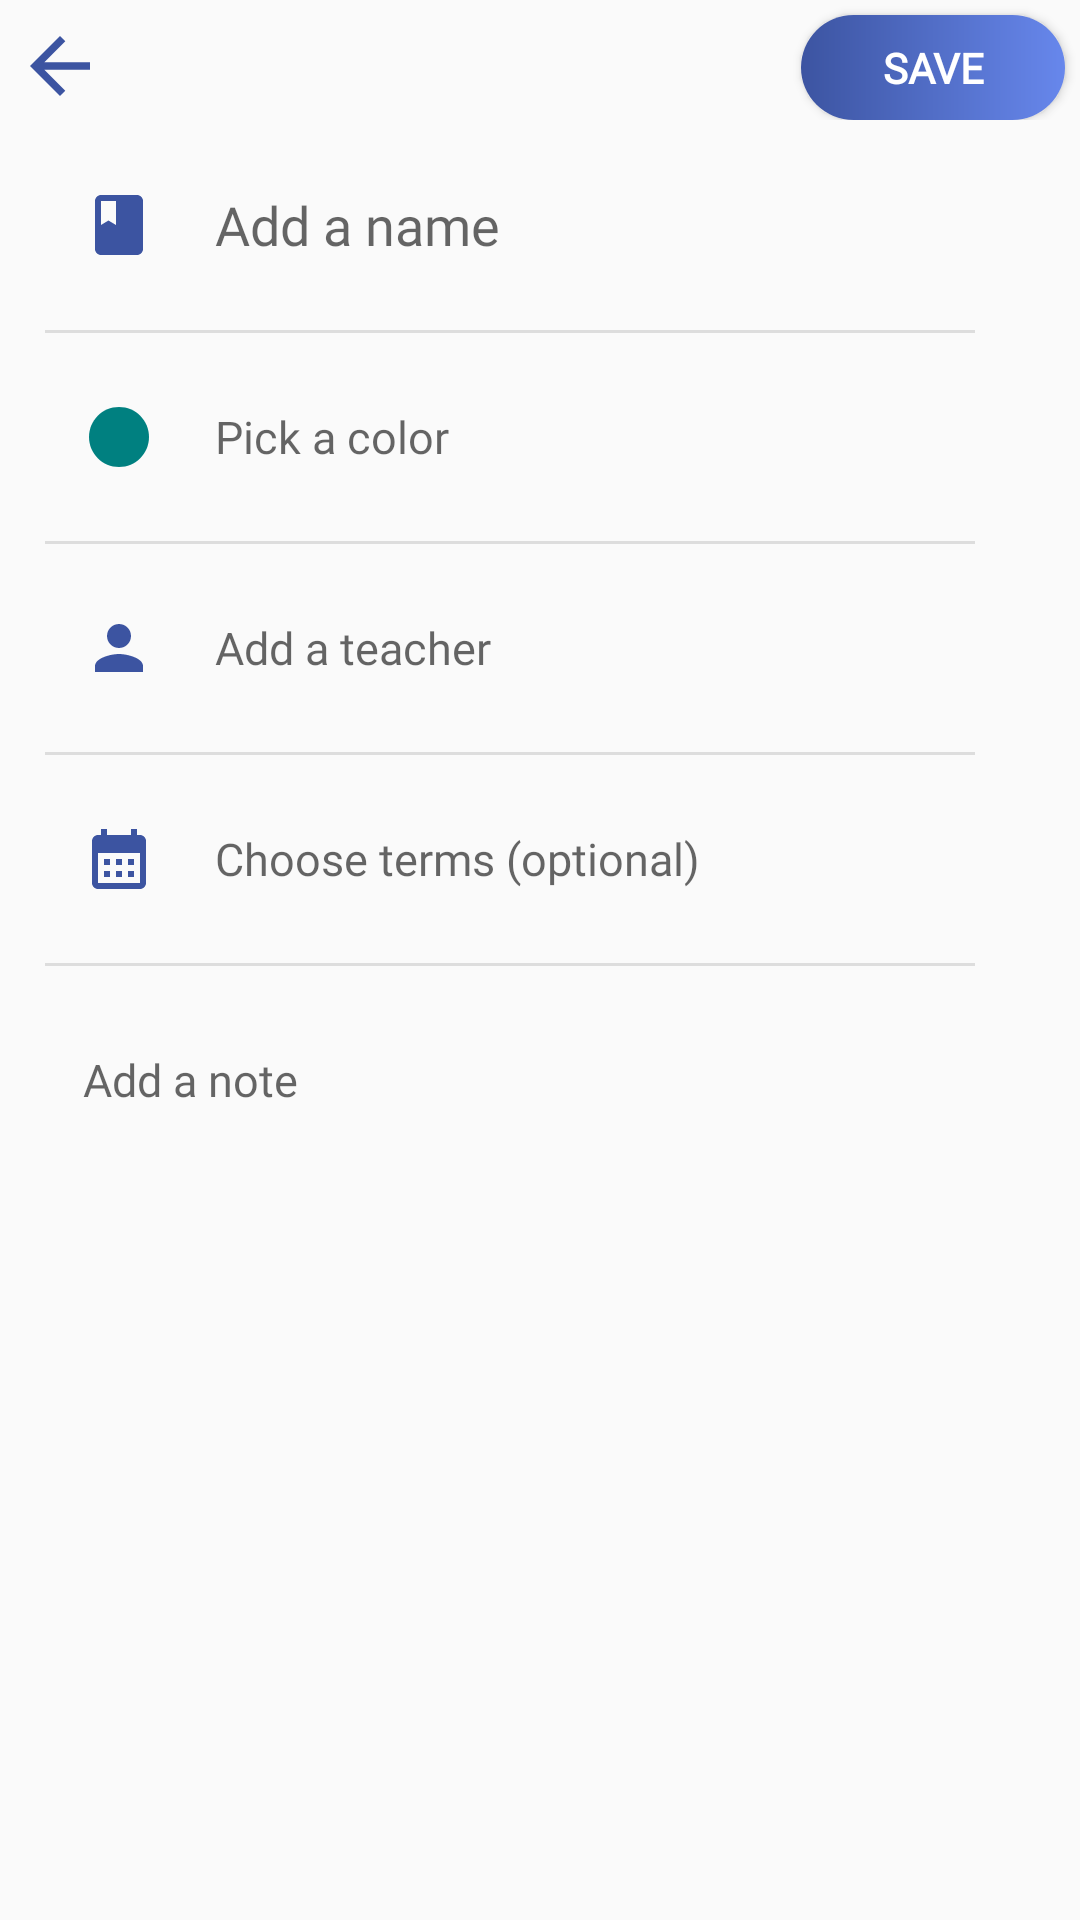

Named icons in this screenshot (1080*1920) and their centers, point (x, y):
arrow back: point (60, 66)
